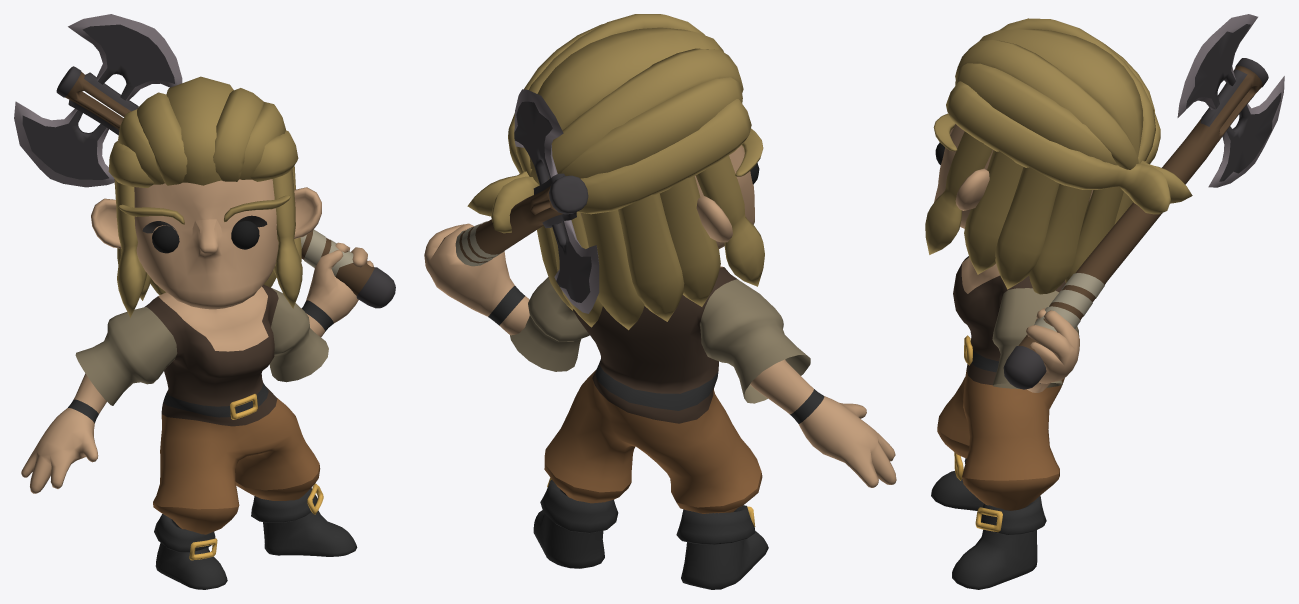
File: pirate_two.glb
3 renders of one model, left to right at view 1: azimuth 30°, elevation 25°; view 2: azimuth 150°, elevation 25°; view 3: azimuth 270°, elevation 25°, orthographic. The views are drawn at different scales.
Visible parts, largest first — view 1: Cube.007, Weapon_DoubleAxe.002; view 2: Cube.007, Weapon_DoubleAxe.002; view 3: Cube.007, Weapon_DoubleAxe.002.
Boxes of the visible parts, box(x1,y1,x2,y2) form: Cube.007: box(21, 76, 373, 589); Weapon_DoubleAxe.002: box(14, 14, 395, 308); Cube.007: box(424, 14, 896, 589); Weapon_DoubleAxe.002: box(455, 89, 599, 313); Cube.007: box(925, 18, 1192, 589); Weapon_DoubleAxe.002: box(1003, 14, 1284, 389).
Bounding box in the file's own units: 1.35 × 1.66 × 1.06.
Materials: 1 (1 with a texture image).
